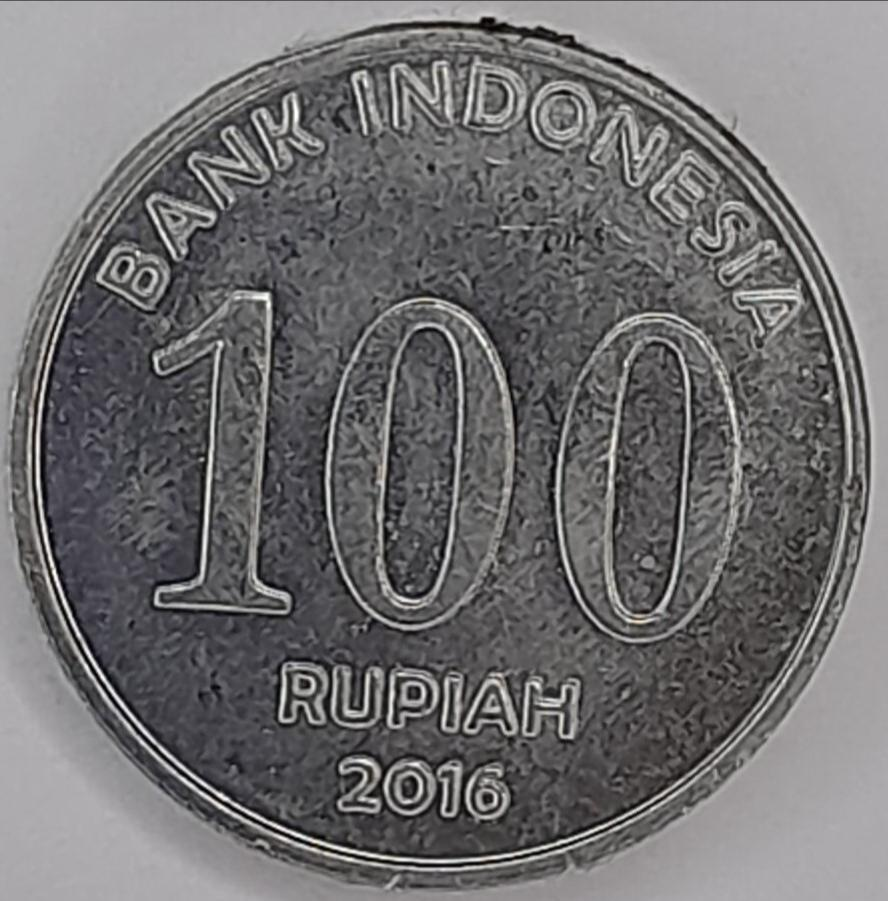coin_100_e2016: (2, 10, 877, 895)
